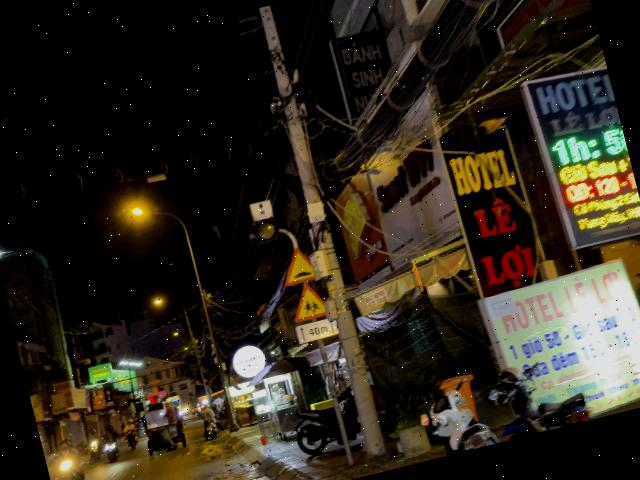duong-co-go-giam-toc: (276, 244, 316, 286)
tre-em-qua-duong: (287, 280, 328, 323)
